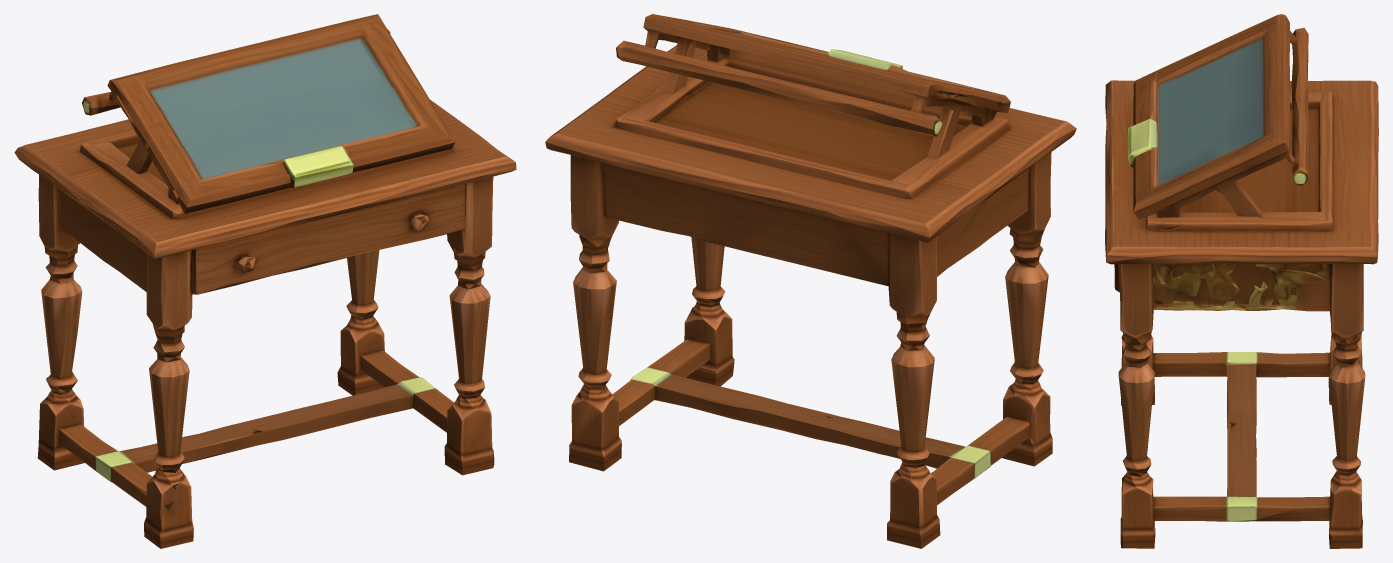
File: LibraryDesk.glb
3 renders of one model, left to right at view 1: azimuth 30°, elevation 25°; view 2: azimuth 150°, elevation 25°; view 3: azimuth 270°, elevation 25°, orthographic. The views are drawn at different scales.
Visible parts, largest first — view 1: geometry_0; view 2: geometry_0; view 3: geometry_0.
Part boxes in pixels (x1,y1,x2,y2): geometry_0: [14, 14, 516, 548]; geometry_0: [545, 14, 1076, 548]; geometry_0: [1105, 14, 1378, 548].
Bounding box in the file's own units: 0.9 × 0.95 × 0.6.
Materials: 1 (1 with a texture image).
